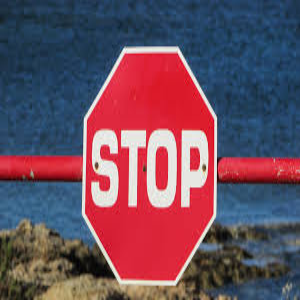STOP_SIGN: (81, 44, 218, 286)
